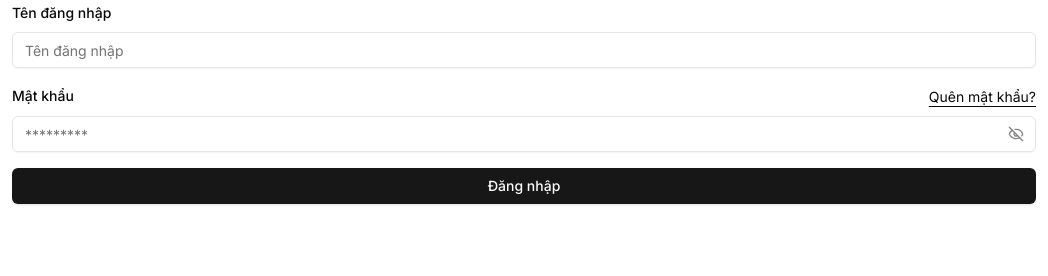
AuthForm Component › shows validation error when form fields are empty
The width and height of the screenshot is (1048, 276).
What coordinates should you click on to do the following:
click the button "Đăng nhập"
I would click on:
 (524, 186)
Its box is [12,168,1036,204].
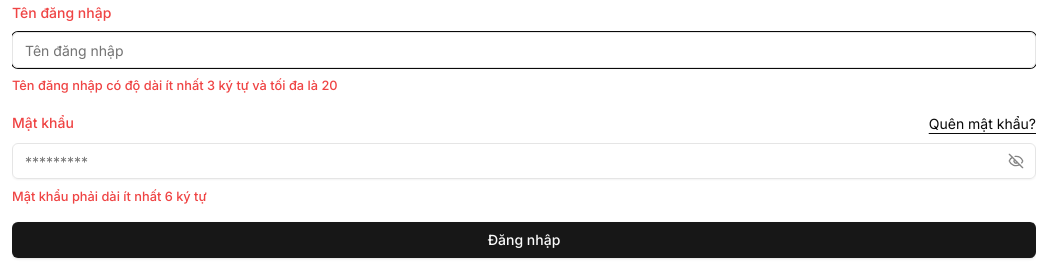
Result: the text "Tên đăng nhập có độ dài ít nhất 3 ký tự và tối đa là 20" is shown at [12,78,338,93]
Result: the text "Mật khẩu phải dài ít nhất 6 ký tự" is shown at [12,189,207,204]
